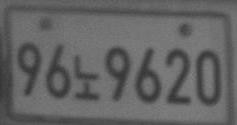0: (195, 49, 221, 106)
2: (165, 48, 192, 105)
6: (134, 47, 161, 103), (45, 45, 70, 98)
9: (104, 46, 130, 100), (16, 42, 41, 94)
노: (73, 55, 100, 99)
